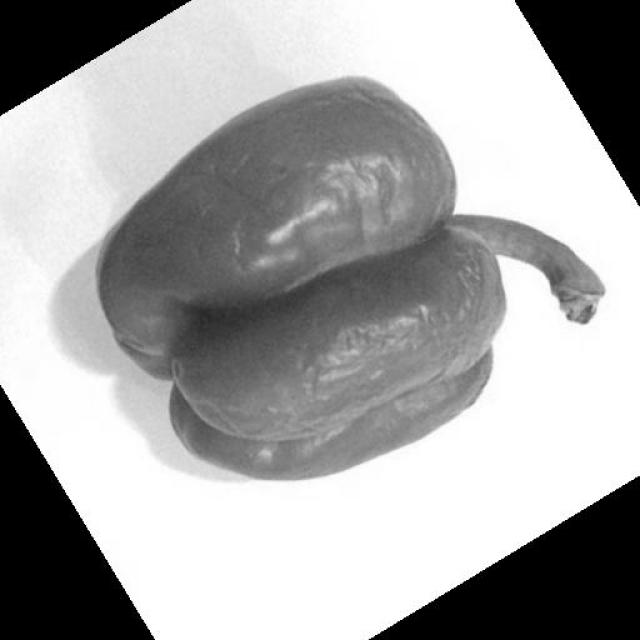Fresh_Capsicum: (122, 147, 504, 425)
